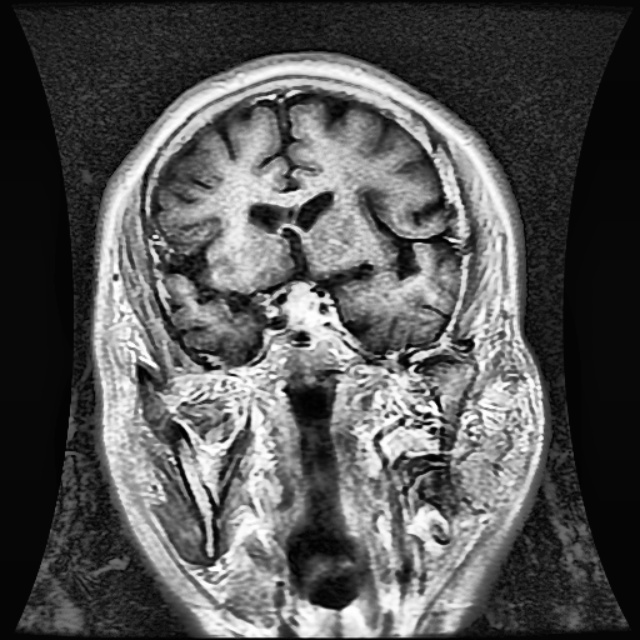Pituitary: (287, 283, 318, 327)
